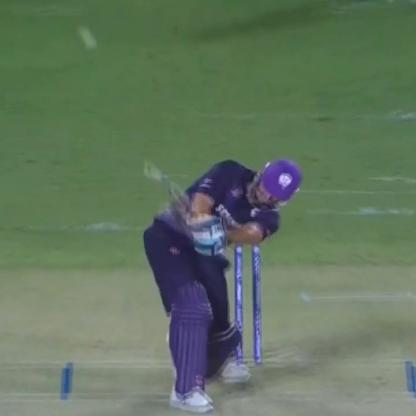ball: (82, 39, 100, 50), (76, 28, 92, 38)
bat: (144, 158, 206, 230)
